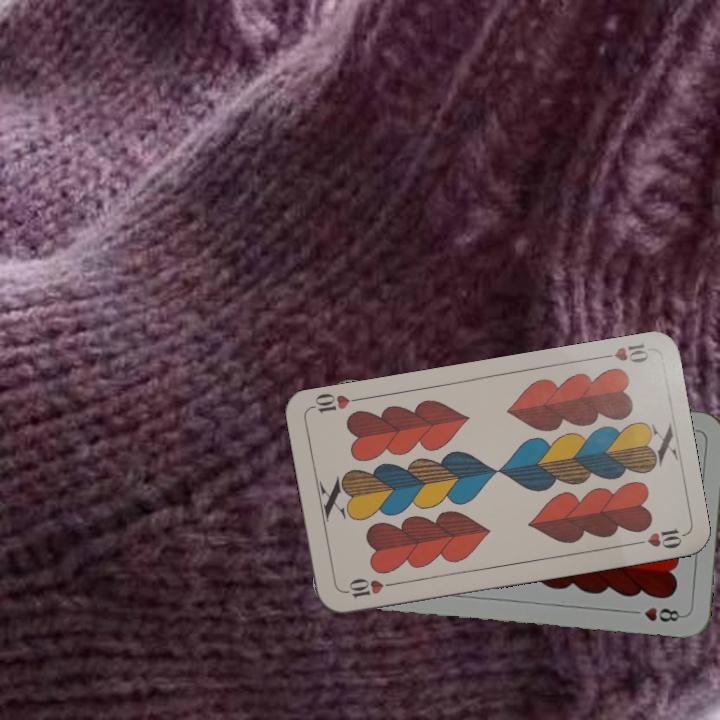H10: (594, 339, 651, 366), (340, 575, 399, 600)
